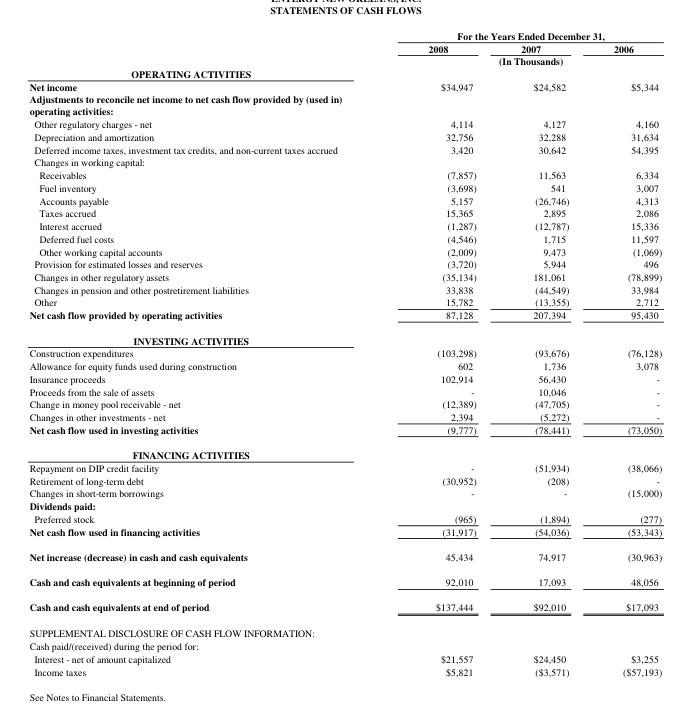table: (28, 28, 661, 677)
table column: (28, 28, 382, 677), (382, 28, 497, 677), (497, 28, 590, 677), (590, 28, 661, 677)
table column header: (28, 28, 661, 67)
table projected row header: (28, 92, 661, 117), (28, 441, 661, 461), (28, 327, 661, 346), (28, 619, 661, 638), (28, 155, 661, 168), (28, 498, 661, 511), (28, 638, 661, 651), (28, 67, 661, 79)
table row: (28, 543, 661, 569), (28, 92, 661, 117), (28, 569, 661, 594), (28, 594, 661, 619), (28, 441, 661, 461), (28, 308, 661, 327), (28, 327, 661, 346), (28, 422, 661, 441), (28, 524, 661, 543), (28, 619, 661, 638), (28, 28, 661, 41), (28, 41, 661, 54), (28, 54, 661, 67), (28, 79, 661, 92), (28, 129, 661, 142), (28, 142, 661, 155), (28, 155, 661, 168), (28, 180, 661, 193), (28, 193, 661, 206), (28, 218, 661, 231), (28, 231, 661, 244), (28, 244, 661, 257), (28, 269, 661, 282), (28, 282, 661, 295), (28, 295, 661, 308), (28, 358, 661, 371), (28, 371, 661, 384), (28, 384, 661, 397), (28, 409, 661, 422), (28, 473, 661, 486), (28, 498, 661, 511), (28, 511, 661, 524), (28, 638, 661, 651), (28, 651, 661, 664), (28, 664, 661, 677), (28, 67, 661, 79), (28, 117, 661, 129), (28, 168, 661, 180), (28, 206, 661, 218), (28, 257, 661, 269), (28, 346, 661, 358), (28, 397, 661, 409), (28, 461, 661, 473), (28, 486, 661, 498)
table spanning cell: (382, 28, 661, 41), (382, 54, 661, 67)
